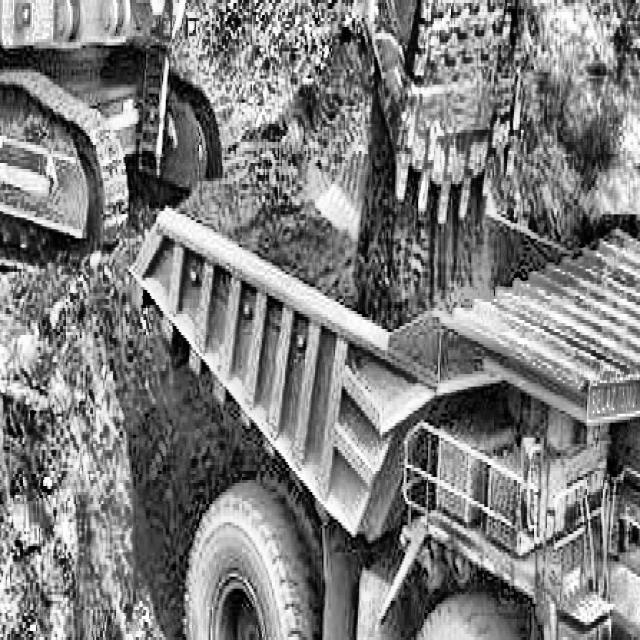dump_truck: (146, 166, 640, 640)
